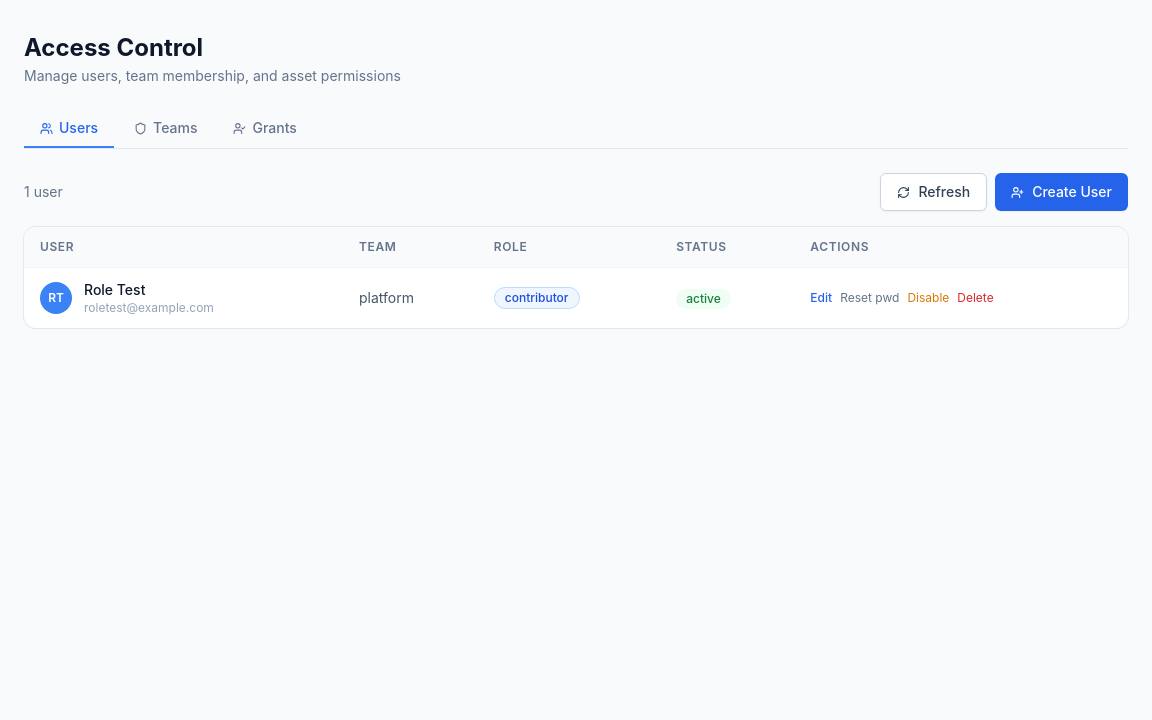
it: AdminAccessPage — users tab › the edit modal's submit button is named 'Save Changes' — the e2e locator contract
Click the button "Edit". click: (821, 298)
box: top-left (810, 290), bottom-right (832, 306)
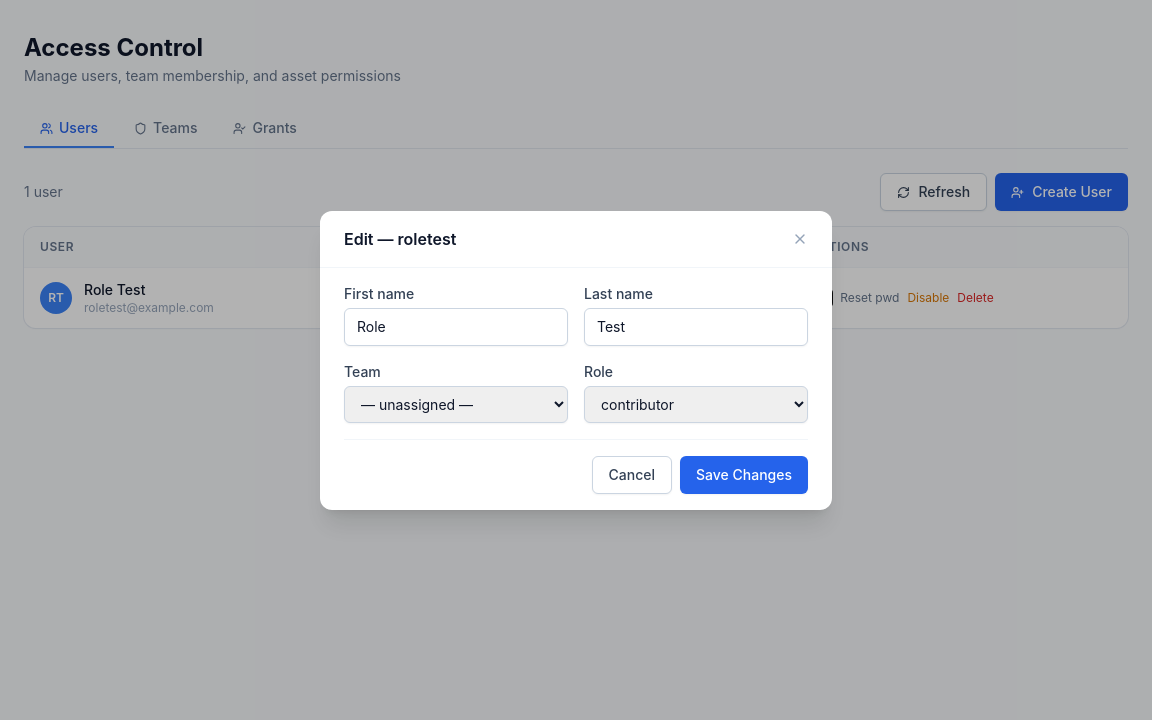
Result: the button "Save Changes" is shown at top-left (680, 456), bottom-right (808, 494)
